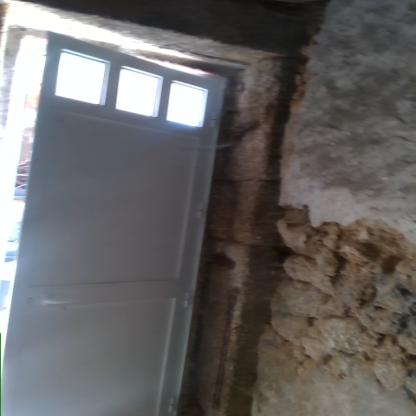semi: (0, 15, 240, 416)
